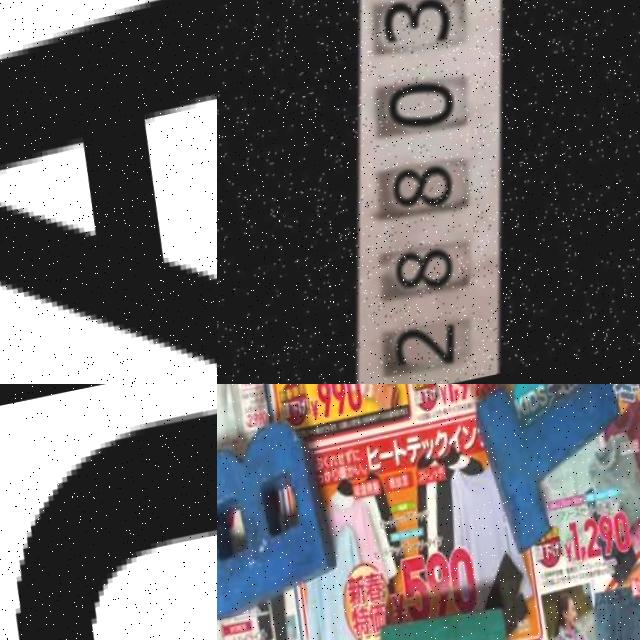0: (369, 66, 480, 152)
2: (378, 311, 483, 384)
3: (365, 0, 471, 69)
8: (375, 154, 476, 231), (378, 238, 479, 313)
A: (0, 0, 217, 384)
B: (217, 417, 345, 622)
D: (0, 384, 217, 640)
M: (372, 596, 542, 640)
T: (463, 384, 638, 554)
